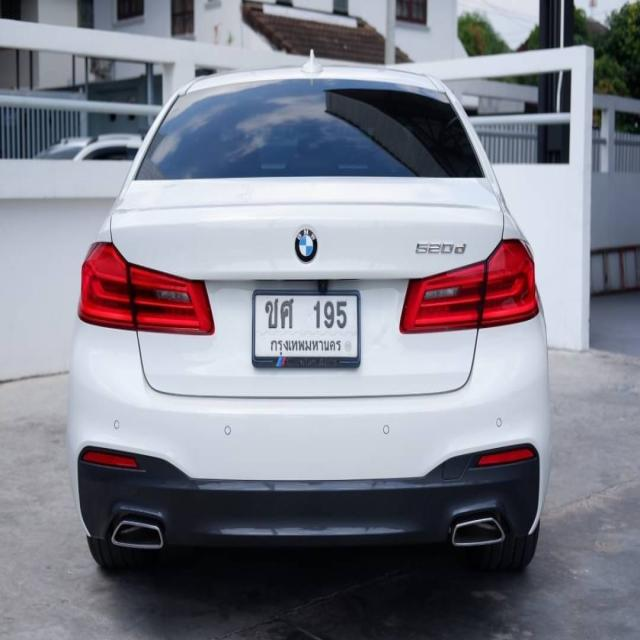license_plate: (251, 286, 362, 371)
